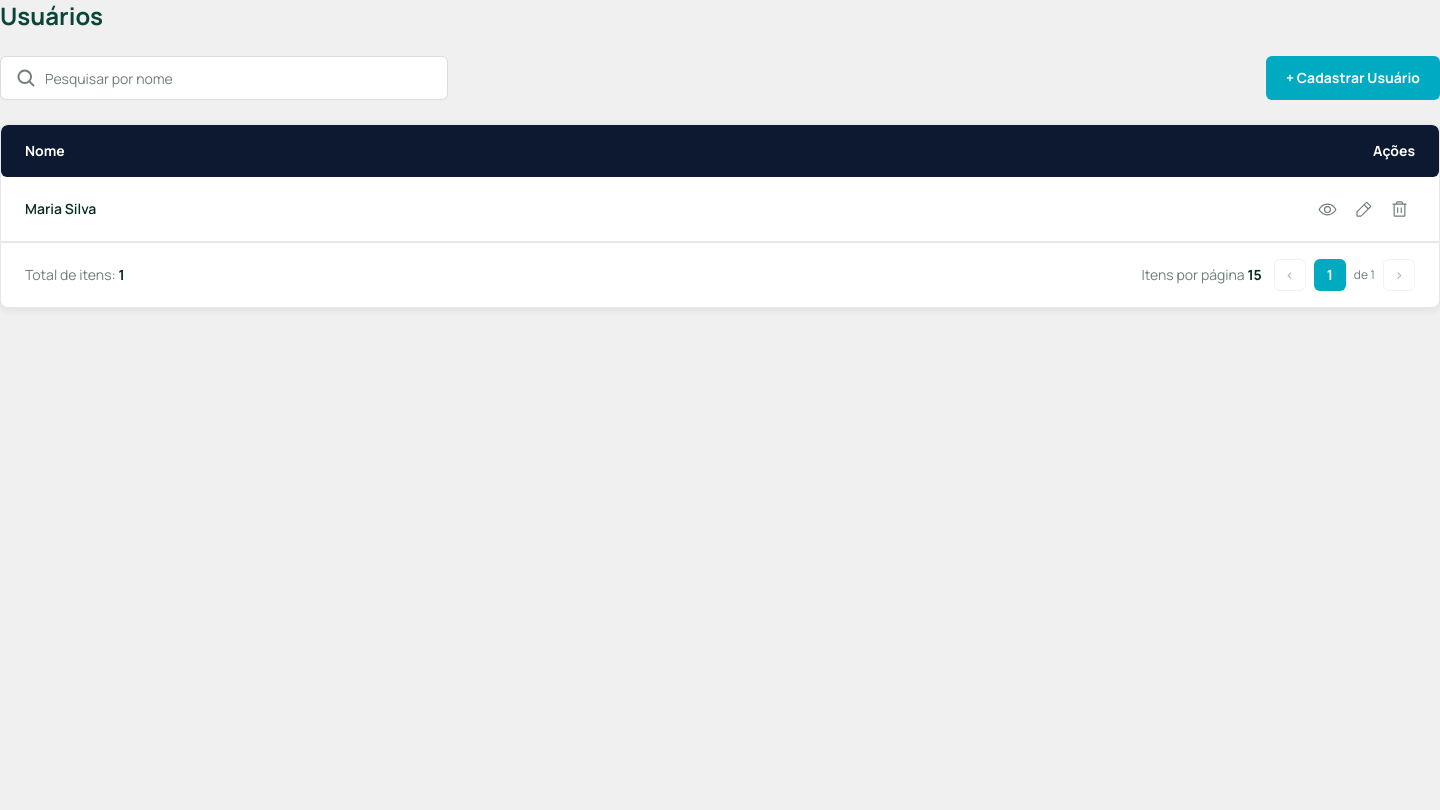
it: user deletion › deletes the selected user and invalidates the list
The image size is (1440, 810).
Expected: the text "Maria Silva" is shown, [1, 177, 1287, 242]
Click the button named "Excluir usuário" at (1399, 209), box [1383, 193, 1415, 225]
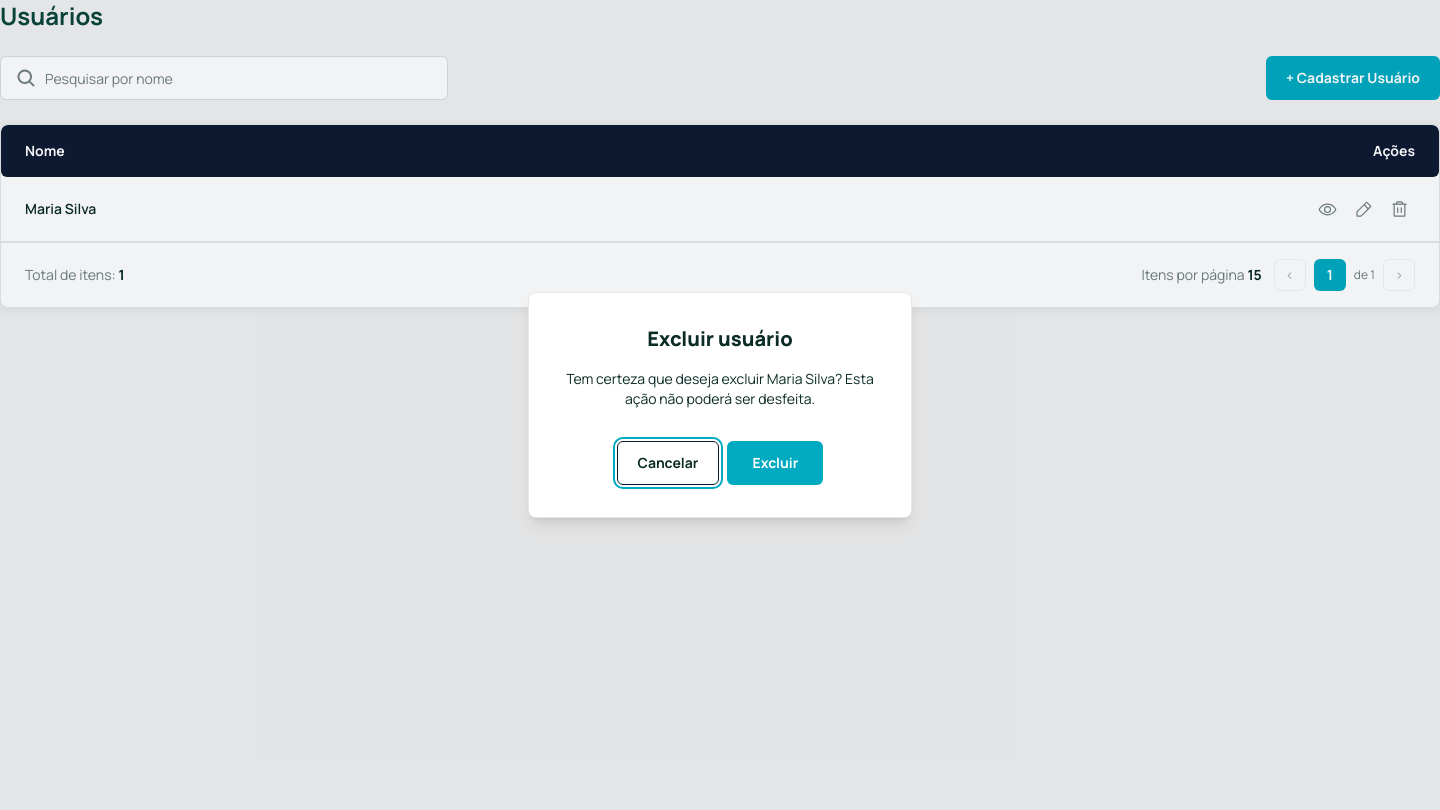
Click the button "Excluir" at (776, 463), box [728, 441, 824, 485]
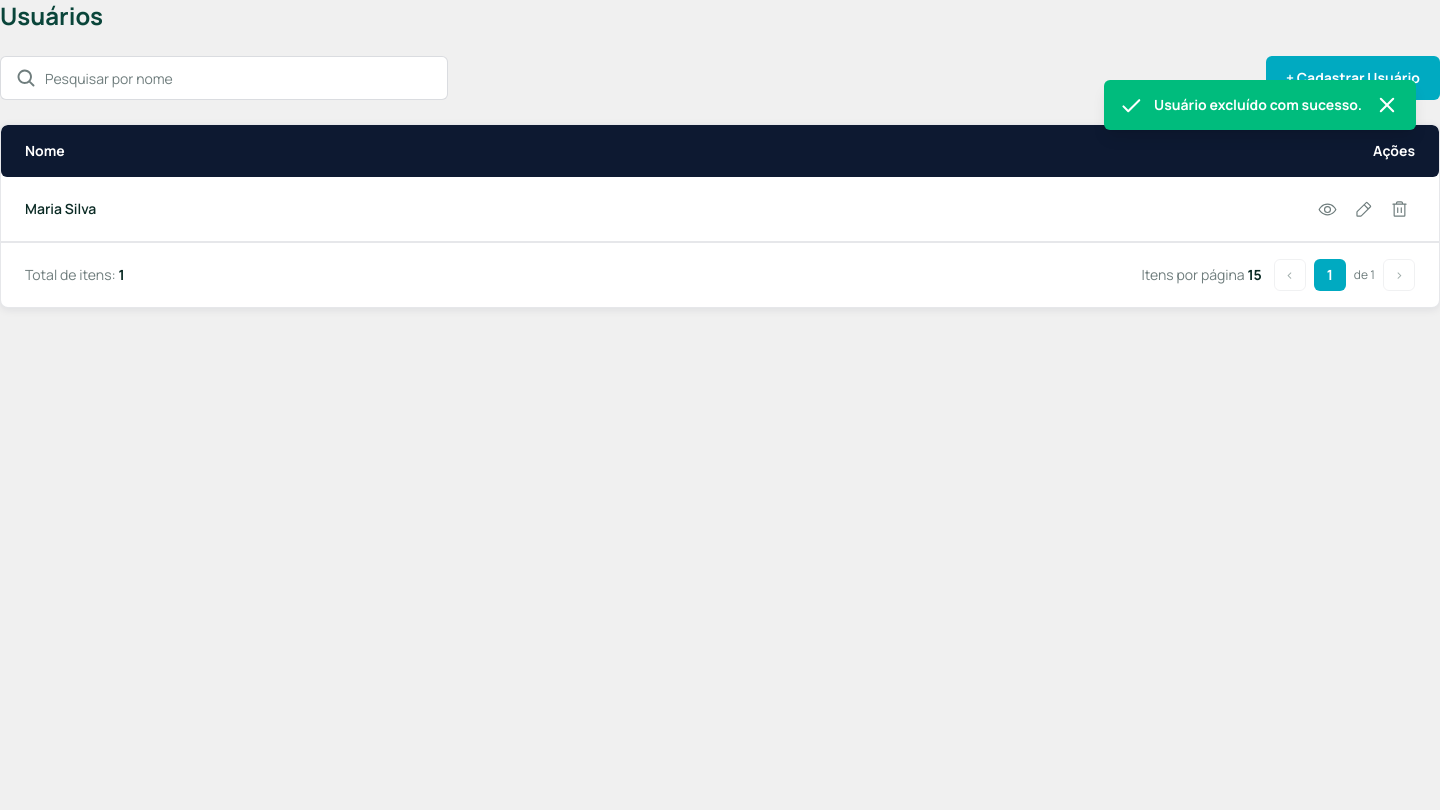
Expected: the message reads "Usuário excluído com sucesso.", [1154, 95, 1362, 114]
